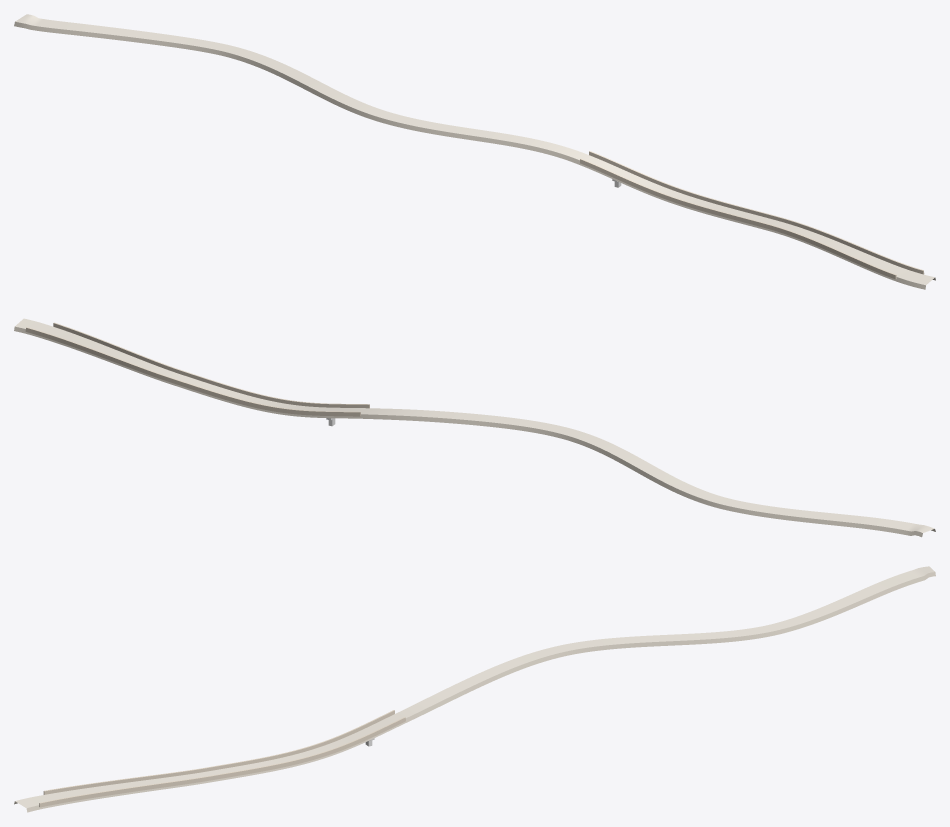
File: SM_AsirMountains_Shortcut_MulePath.fbx
3 views of the same model, one above another, from view 1: azimuth 30°, elevation 25°; view 2: azimuth 210°, elevation 25°; view 3: azimuth 270°, elevation 25° (orthographic). The views are drawn at different scales.
Visible parts, largest first — view 1: SM_AsirMountains_Shortcut_MulePath; view 2: SM_AsirMountains_Shortcut_MulePath; view 3: SM_AsirMountains_Shortcut_MulePath.
Part boxes in pixels (x1,y1,x2,y2): SM_AsirMountains_Shortcut_MulePath: [14, 14, 935, 289]; SM_AsirMountains_Shortcut_MulePath: [14, 318, 935, 537]; SM_AsirMountains_Shortcut_MulePath: [14, 566, 935, 812].
Bounding box in the file's own units: 19820 × 1379 × 35552.
